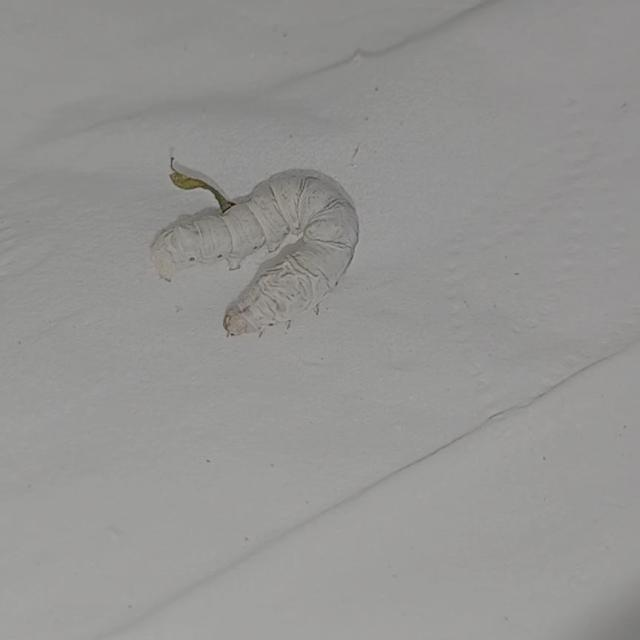Healthy: (143, 163, 359, 339)
